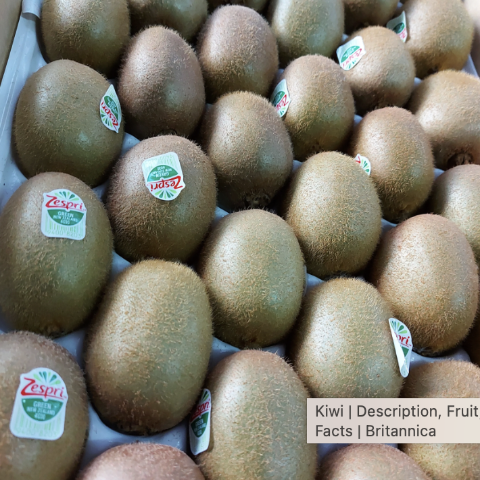kiwi: (72, 240, 224, 439), (286, 263, 416, 424), (1, 164, 122, 331), (177, 337, 317, 480), (368, 204, 480, 375), (279, 140, 387, 286), (108, 16, 212, 157), (116, 130, 216, 267), (341, 100, 436, 225), (265, 51, 364, 161), (205, 79, 298, 191)
